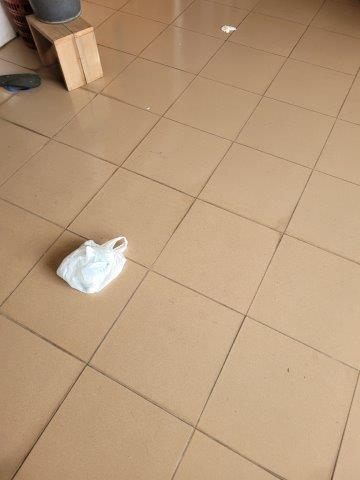plastik: (55, 234, 127, 293)
